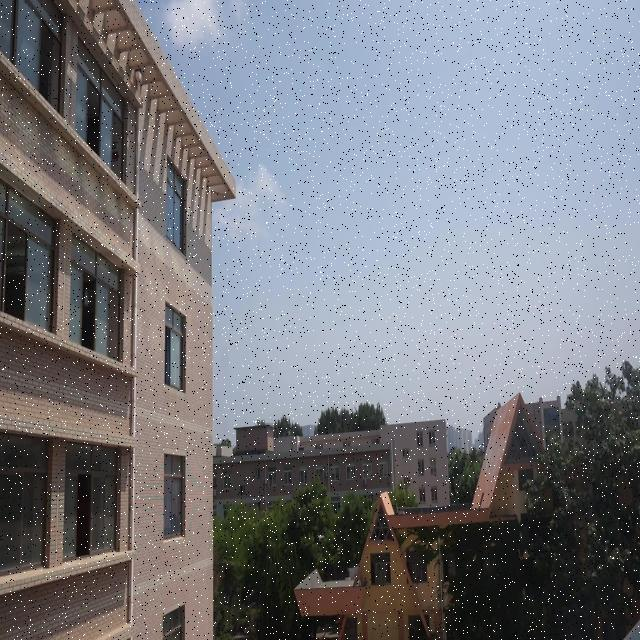UAV: (316, 535, 324, 542)
